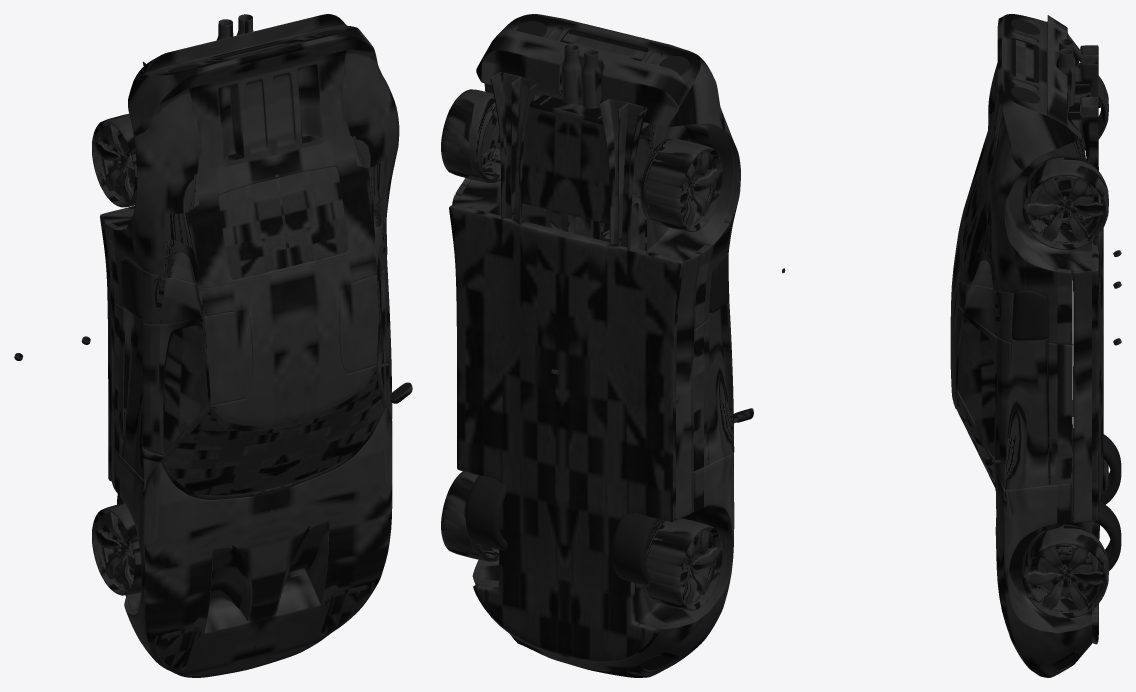
File: ford-gt-2006.glb
3 renders of one model, left to right at view 1: azimuth 30°, elevation 25°; view 2: azimuth 150°, elevation 25°; view 3: azimuth 270°, elevation 25°, orthographic. The views are drawn at different scales.
Parts seen in each view (by area): view 1: mesh_0, mesh_43, mesh_2, mesh_44, mesh_11, mesh_36; view 2: mesh_36, mesh_0, mesh_44, mesh_13, mesh_48, mesh_11, mesh_2, mesh_38, mesh_1, mesh_45, mesh_47; view 3: mesh_0, mesh_44, mesh_36, mesh_13, mesh_43, mesh_11, mesh_2, mesh_45, mesh_47, mesh_48, mesh_38, mesh_1 (+1 smaller).
Boxes of the visible parts, <box> form: mesh_0: <box>103,14,399,677</box>; mesh_43: <box>155,166,384,668</box>; mesh_2: <box>217,28,324,675</box>; mesh_44: <box>92,113,141,595</box>; mesh_11: <box>106,223,119,495</box>; mesh_36: <box>100,61,146,596</box>; mesh_36: <box>449,72,683,662</box>; mesh_0: <box>452,14,740,677</box>; mesh_44: <box>441,89,722,610</box>; mesh_13: <box>457,85,734,628</box>; mesh_48: <box>465,475,661,584</box>; mesh_11: <box>456,185,711,512</box>; mesh_2: <box>540,26,646,675</box>; mesh_38: <box>562,44,601,108</box>; mesh_1: <box>516,21,689,670</box>; mesh_45: <box>481,111,692,587</box>; mesh_47: <box>496,487,660,581</box>; mesh_0: <box>950,14,1092,677</box>; mesh_44: <box>1022,62,1108,618</box>; mesh_36: <box>1069,45,1103,644</box>; mesh_13: <box>1005,132,1092,629</box>; mesh_43: <box>956,144,995,487</box>; mesh_11: <box>1057,268,1071,524</box>; mesh_2: <box>950,42,1068,342</box>; mesh_45: <box>1037,176,1093,595</box>; mesh_47: <box>1048,444,1118,571</box>; mesh_48: <box>1041,428,1121,570</box>; mesh_38: <box>1056,39,1075,106</box>; mesh_1: <box>1011,19,1079,670</box>.
Bounding box in the file's own units: 2.49 × 4.64 × 2.34.
1 material, 1 textured.
